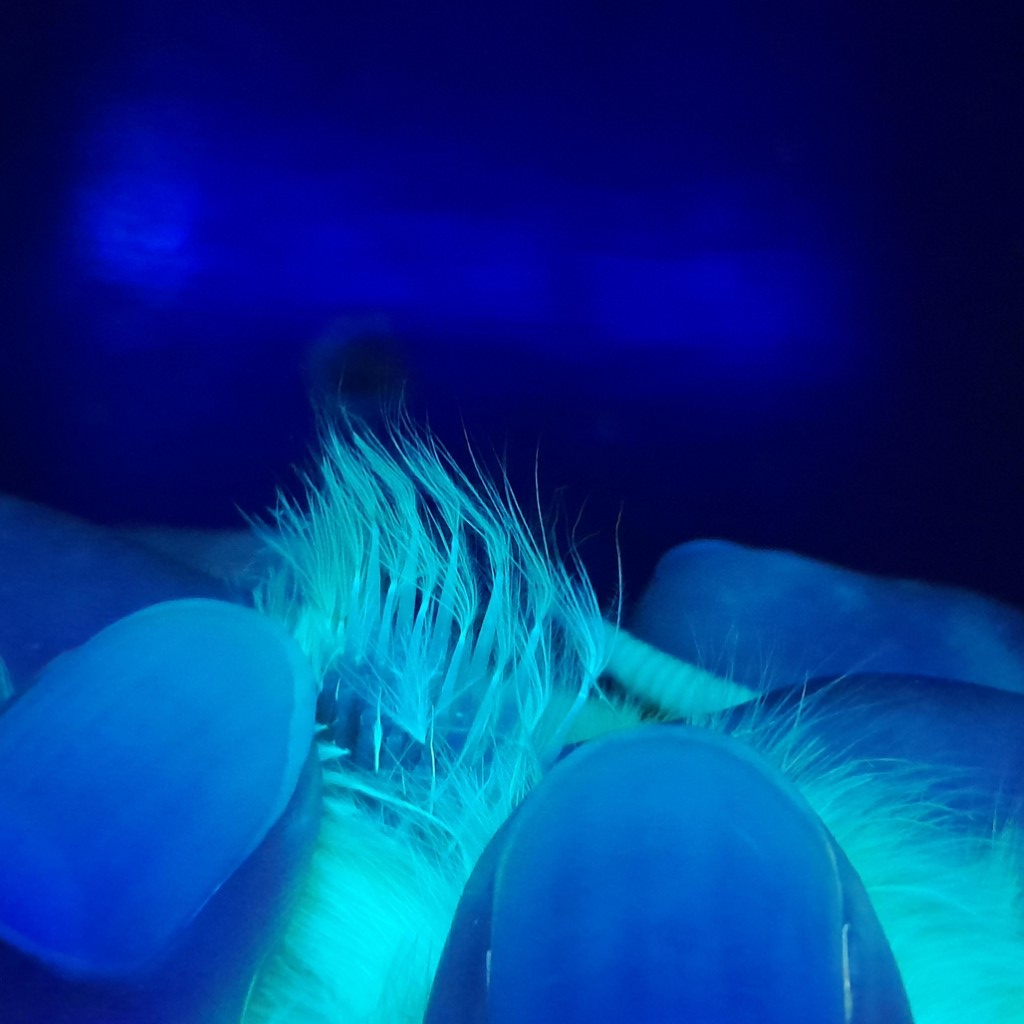female: (315, 502, 590, 886)
